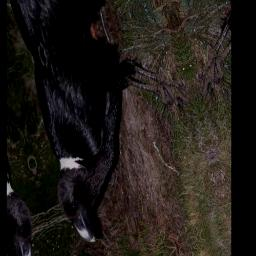Crow: (20, 0, 215, 253)
